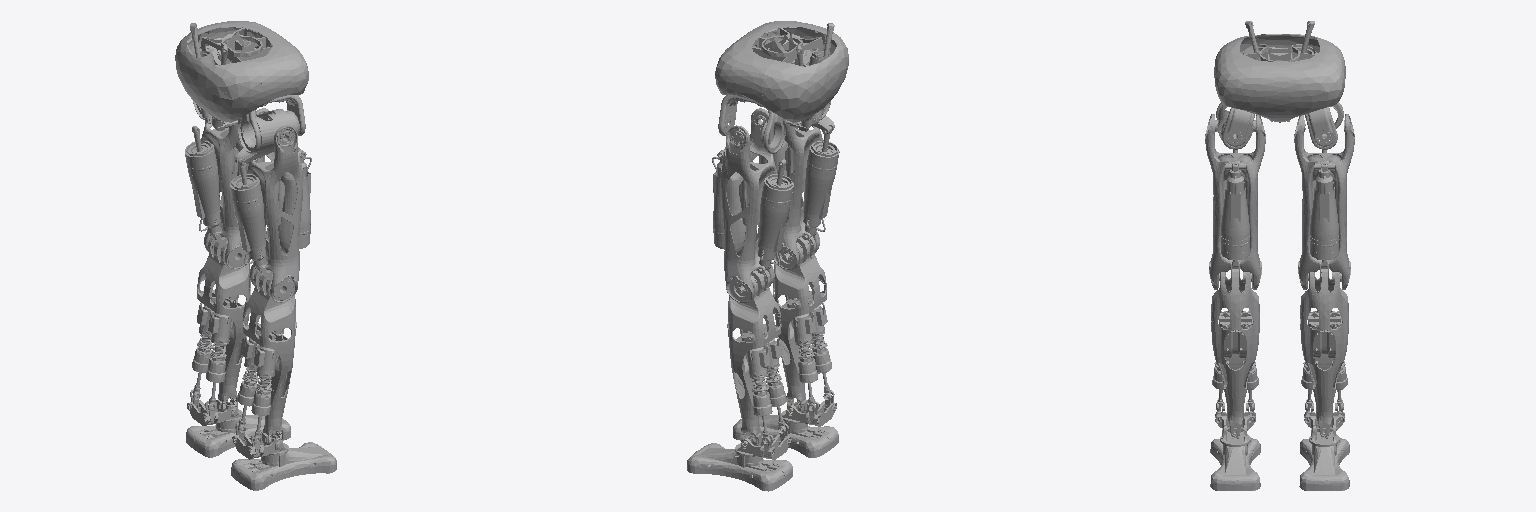
--- Facts derived from the render (not from the file) ---
The picture shows the robot from 3 angles, left to right: view 1: azimuth 30°, elevation 25°; view 2: azimuth 150°, elevation 25°; view 3: azimuth 270°, elevation 25°; orthographic projection.
Model RH5 with 26 links and 25 joints (12 revolute, 13 fixed), rooted at RH5_Root_Link, posed every joint at zero.
Visible links, largest first — view 1: RH5_Root_Link, LRKnee_Link, LLKnee_Link, LRHip3_Link, LRHip2_Link, LRAnkle_FT, LLHip3_Link, LLAnkle_FT, LLHip2_Link, LRHip1_Link; view 2: RH5_Root_Link, LLHip3_Link, LLKnee_Link, LRKnee_Link, LLAnkle_FT, LRHip3_Link, LRHip2_Link, LRAnkle_FT, LLHip2_Link, LLHip1_Link; view 3: RH5_Root_Link, LRHip3_Link, LLHip3_Link, LLKnee_Link, LRKnee_Link, LRAnkle_FT, LLAnkle_FT, LLHip1_Link, LRHip1_Link.
Boxes of the visible links, x1,y1,x2,y2 form: RH5_Root_Link: [175, 21, 308, 130]; LRKnee_Link: [237, 269, 296, 444]; LLKnee_Link: [192, 236, 250, 411]; LRHip3_Link: [247, 108, 311, 302]; LRHip2_Link: [230, 109, 299, 268]; LRAnkle_FT: [231, 433, 336, 490]; LLHip3_Link: [201, 122, 264, 268]; LLAnkle_FT: [186, 400, 290, 457]; LLHip2_Link: [185, 126, 220, 235]; LRHip1_Link: [238, 95, 305, 153]; RH5_Root_Link: [715, 21, 848, 131]; LLHip3_Link: [712, 108, 776, 302]; LLKnee_Link: [727, 270, 786, 445]; LRKnee_Link: [773, 236, 831, 412]; LLAnkle_FT: [687, 433, 792, 491]; LRHip3_Link: [759, 120, 822, 269]; LRHip2_Link: [803, 116, 839, 236]; LRAnkle_FT: [733, 400, 838, 457]; LLHip2_Link: [758, 159, 793, 269]; LLHip1_Link: [718, 95, 785, 153]; RH5_Root_Link: [1214, 21, 1345, 122]; LRHip3_Link: [1205, 114, 1265, 289]; LLHip3_Link: [1294, 114, 1354, 289]; LLKnee_Link: [1300, 261, 1348, 436]; LRKnee_Link: [1211, 261, 1259, 436]; LRAnkle_FT: [1210, 411, 1260, 490]; LLAnkle_FT: [1299, 411, 1349, 490]; LLHip1_Link: [1305, 102, 1343, 149]; LRHip1_Link: [1216, 102, 1254, 149].
Bounding box of the posed robot: 0.324 × 0.3709 × 1.17 m (x, y, z).
42 mesh visuals loaded from 28 distinct referenced files (26 binary STL); not drawn: 3 (reference not matched to a file when rendering).

URDF robot description (RH5):
<robot name="RH5">
  <joint name="FLC_FrontLeft" type="fixed">
    <origin xyz="0.13 -0.04 0.0274" rpy="3.1416 0.0 0.0"/>
    <axis xyz="0.0 0.0 0.0"/>
    <parent link="LLAnkle_FT"/>
    <child link="FLC_FrontLeft_Link"/>
  </joint>
  <link name="FLC_FrontLeft_Link">
    <collision name="FLC_FrontLeft_Collision">
      <origin xyz="0.0 0.0 0.0" rpy="0.0 0.0 0.0"/>
      <geometry>
        <sphere radius="0.017"/>
      </geometry>
    </collision>
  </link>
  <joint name="FLC_FrontRight" type="fixed">
    <origin xyz="0.13 0.04 0.0274" rpy="3.1416 0.0 0.0"/>
    <axis xyz="0.0 0.0 0.0"/>
    <parent link="LLAnkle_FT"/>
    <child link="FLC_FrontRight_Link"/>
  </joint>
  <link name="FLC_FrontRight_Link">
    <collision name="FLC_FrontRight_Collision">
      <origin xyz="0.0 0.0 0.0" rpy="0.0 0.0 0.0"/>
      <geometry>
        <sphere radius="0.017"/>
      </geometry>
    </collision>
  </link>
  <joint name="FLC_RearLeft" type="fixed">
    <origin xyz="-0.07 -0.04 0.0274" rpy="3.1416 0.0 0.0"/>
    <axis xyz="0.0 0.0 0.0"/>
    <parent link="LLAnkle_FT"/>
    <child link="FLC_RearLeft_Link"/>
  </joint>
  <link name="FLC_RearLeft_Link">
    <collision name="FLC_RearLeft_Collision">
      <origin xyz="0.0 0.0 0.0" rpy="0.0 0.0 0.0"/>
      <geometry>
        <sphere radius="0.017"/>
      </geometry>
    </collision>
  </link>
  <joint name="FLC_RearRight" type="fixed">
    <origin xyz="-0.07 0.04 0.0274" rpy="3.1416 0.0 0.0"/>
    <axis xyz="0.0 0.0 0.0"/>
    <parent link="LLAnkle_FT"/>
    <child link="FLC_RearRight_Link"/>
  </joint>
  <link name="FLC_RearRight_Link">
    <collision name="FLC_RearRight_Collision">
      <origin xyz="0.0 0.0 0.0" rpy="0.0 0.0 0.0"/>
      <geometry>
        <sphere radius="0.017"/>
      </geometry>
    </collision>
  </link>
  <link name="FL_SupportCenter"/>
  <joint name="FL_SupportCenter_joint" type="fixed">
    <origin xyz="0.03 0.0 0.0444" rpy="3.1416 0.0 0.0"/>
    <axis xyz="0.0 0.0 0.0"/>
    <parent link="LLAnkle_FT"/>
    <child link="FL_SupportCenter"/>
  </joint>
  <joint name="FRC_FrontLeft" type="fixed">
    <origin xyz="0.13 -0.04 0.0274" rpy="3.1416 0.0 0.0"/>
    <axis xyz="0.0 0.0 0.0"/>
    <parent link="LRAnkle_FT"/>
    <child link="FRC_FrontLeft_Link"/>
  </joint>
  <link name="FRC_FrontLeft_Link">
    <collision name="FRC_FrontLeft_Collision">
      <origin xyz="0.0 0.0 0.0" rpy="0.0 0.0 0.0"/>
      <geometry>
        <sphere radius="0.017"/>
      </geometry>
    </collision>
  </link>
  <joint name="FRC_FrontRight" type="fixed">
    <origin xyz="0.13 0.04 0.0274" rpy="3.1416 0.0 0.0"/>
    <axis xyz="0.0 0.0 0.0"/>
    <parent link="LRAnkle_FT"/>
    <child link="FRC_FrontRight_Link"/>
  </joint>
  <link name="FRC_FrontRight_Link">
    <collision name="FRC_FrontRight_Collision">
      <origin xyz="0.0 0.0 0.0" rpy="0.0 0.0 0.0"/>
      <geometry>
        <sphere radius="0.017"/>
      </geometry>
    </collision>
  </link>
  <joint name="FRC_RearLeft" type="fixed">
    <origin xyz="-0.07 -0.04 0.0274" rpy="3.1416 0.0 0.0"/>
    <axis xyz="0.0 0.0 0.0"/>
    <parent link="LRAnkle_FT"/>
    <child link="FRC_RearLeft_Link"/>
  </joint>
  <link name="FRC_RearLeft_Link">
    <collision name="FRC_RearLeft_Collision">
      <origin xyz="0.0 0.0 0.0" rpy="0.0 0.0 0.0"/>
      <geometry>
        <sphere radius="0.017"/>
      </geometry>
    </collision>
  </link>
  <joint name="FRC_RearRight" type="fixed">
    <origin xyz="-0.07 0.04 0.0274" rpy="3.1416 0.0 0.0"/>
    <axis xyz="0.0 0.0 0.0"/>
    <parent link="LRAnkle_FT"/>
    <child link="FRC_RearRight_Link"/>
  </joint>
  <link name="FRC_RearRight_Link">
    <collision name="FRC_RearRight_Collision">
      <origin xyz="0.0 0.0 0.0" rpy="0.0 0.0 0.0"/>
      <geometry>
        <sphere radius="0.017"/>
      </geometry>
    </collision>
  </link>
  <link name="FR_SupportCenter"/>
  <joint name="FR_SupportCenter_joint" type="fixed">
    <origin xyz="0.03 0.0 0.0444" rpy="3.1416 0.0 0.0"/>
    <axis xyz="0.0 0.0 0.0"/>
    <parent link="LRAnkle_FT"/>
    <child link="FR_SupportCenter"/>
  </joint>
  <joint name="IMU" type="fixed">
    <origin xyz="0 0.0 0" rpy="0.0 0 0"/>
    <axis xyz="0.0 0.0 0.0"/>
    <parent link="RH5_Root_Link"/>
    <child link="IMU_Link"/>
  </joint>
  <link name="IMU_Link"/>
  <joint name="LLAnklePitch" type="revolute">
    <origin xyz="0.0 0.0 0.0" rpy="0.0 0.0 0.0"/>
    <axis xyz="0.0 1.0 0.0"/>
    <parent link="LLAnkleRoll_Link"/>
    <child link="LLAnklePitch_Link"/>
    <limit effort="200.0" lower="-0.8988445648" upper="0.7853981634" velocity="6.0"/>
  </joint>
  <link name="LLAnklePitch_Link">
    <inertial>
      <origin xyz="2.8493e-18 -1.3878e-16 0.0" rpy="0.0 0.0 0.0"/>
      <mass value="0.05002825763253648"/>
      <inertia ixx="1.1393245912e-05" ixy="1.7670484276950664e-28" ixz="-1.2474451909533485e-12" iyy="1.0892263576532345e-05" iyz="0.0" izz="2.9520429504676554e-06"/>
    </inertial>
    <visual name="LLAnklePitch_Link_visual">
      <origin xyz="0.0 0.0 0.0" rpy="0.0 0.0 0.0"/>
      <geometry>
        <mesh filename="../meshes/AnklePitch_Link.STL"/>
      </geometry>
      <material name="">
        <color rgba="0.79216 0.81961 0.93333 1.0"/>
      </material>
    </visual>
    <visual name="LLAnkle_E21_Link_visual">
      <origin xyz="-0.07 -0.04 0.0" rpy="-0.05066 -0.0 0.0"/>
      <geometry>
        <mesh filename="../meshes/Ankle_E21_Link.STL"/>
      </geometry>
      <material name="">
        <color rgba="0.69804 0.69804 0.69804 1.0"/>
      </material>
    </visual>
    <visual name="LLAnkle_E11_Link_visual">
      <origin xyz="-0.07 0.04 0.0" rpy="0.05066 -0.0 0.0"/>
      <geometry>
        <mesh filename="../meshes/Ankle_E11_Link.STL"/>
      </geometry>
      <material name="">
        <color rgba="0.69804 0.69804 0.69804 1.0"/>
      </material>
    </visual>
  </link>
  <joint name="LLAnkleRoll" type="revolute">
    <origin xyz="0.42 0.0 0.0015" rpy="1.5708 5.551115123125783e-17 -1.5708"/>
    <axis xyz="1.0 0.0 0.0"/>
    <parent link="LLKnee_Link"/>
    <child link="LLAnkleRoll_Link"/>
    <limit effort="200.0" lower="-0.9948376736" upper="0.9948376736" velocity="6.0"/>
  </joint>
  <link name="LLAnkleRoll_Link">
    <inertial>
      <origin xyz="-4.1608e-08 7.2923e-08 -5.2997e-09" rpy="0.0 0.0 0.0"/>
      <mass value="0.02493"/>
      <inertia ixx="2.9269e-06" ixy="-7.8377e-12" ixz="-1.0382e-12" iyy="1.1591e-06" iyz="1.5876e-12" izz="3.5758e-06"/>
    </inertial>
    <visual name="LLAnkleRoll_Link_visual">
      <origin xyz="0.0 0.0 0.0" rpy="0.0 0.0 0.0"/>
      <geometry>
        <mesh filename="../meshes/AnkleRoll_Link.STL"/>
      </geometry>
      <material name="">
        <color rgba="0.64706 0.61961 0.58824 1.0"/>
      </material>
    </visual>
  </link>
  <link name="LLAnkle_FT">
    <inertial>
      <origin xyz="0.016102 4.5932e-05 0.0078533" rpy="0.0 0.0 0.0"/>
      <mass value="1.2348"/>
      <inertia ixx="0.0018722" ixy="1.7891e-07" ixz="-0.00077672" iyy="0.0072567" iyz="3.8393e-06" izz="0.007267"/>
    </inertial>
    <visual name="LLAnkle_FT_visual">
      <origin xyz="0.0 0.0 0.0" rpy="0.0 0.0 0.0"/>
      <geometry>
        <mesh filename="../meshes/FL_FT_Link.STL"/>
      </geometry>
      <material name="">
        <color rgba="0.69804 0.69804 0.69804 1.0"/>
      </material>
    </visual>
  </link>
  <joint name="LLAnkle_FT_joint" type="fixed">
    <origin xyz="0.0 0.0 -0.058972" rpy="-3.1416 0.0 -1.2151e-16"/>
    <axis xyz="0.0 0.0 0.0"/>
    <parent link="LLAnklePitch_Link"/>
    <child link="LLAnkle_FT"/>
  </joint>
  <joint name="LLHip1" type="revolute">
    <origin xyz="0.0735 0.11044 0.014269" rpy="8.0247e-16 0.2618 -1.5708"/>
    <axis xyz="0.0 0.0 1.0"/>
    <parent link="RH5_Root_Link"/>
    <child link="LLHip1_Link"/>
    <limit effort="135.0" lower="-0.7854" upper="0.7854" velocity="1.8326"/>
  </joint>
  <link name="LLHip1_Link">
    <inertial>
      <origin xyz="-4.7812e-08 -0.0016168 0.04962" rpy="0.0 0.0 0.0"/>
      <mass value="0.5"/>
      <inertia ixx="0.0020247" ixy="7.2405e-09" ixz="3.8164e-09" iyy="0.00095765" iyz="-0.00012913" izz="0.0015078"/>
    </inertial>
    <visual name="LLHip1_Link_visual">
      <origin xyz="0.0 0.0 0.0" rpy="0.0 0.0 0.0"/>
      <geometry>
        <mesh filename="../meshes/LLHip1_Link.STL"/>
      </geometry>
      <material name="">
        <color rgba="0.69804 0.69804 0.69804 1.0"/>
      </material>
    </visual>
  </link>
  <joint name="LLHip2" type="revolute">
    <origin xyz="0.0 0.0 0.0" rpy="9.8608e-32 2.7756e-17 -4.9304e-32"/>
    <axis xyz="0.0 1.0 0.0"/>
    <parent link="LLHip1_Link"/>
    <child link="LLHip2_Link"/>
    <limit effort="135.0" lower="-0.4363" upper="0.8727" velocity="1.8326"/>
  </joint>
  <link name="LLHip2_Link">
    <inertial>
      <origin xyz="0.0013954 0.0024309 -0.0053241" rpy="0.0 0.0 0.0"/>
      <mass value="2.3580361324518035"/>
      <inertia ixx="0.008083434004413779" ixy="2.6244834705305358e-05" ixz="0.0015310237705679207" iyy="0.007915769158281745" iyz="-9.344933737144451e-05" izz="0.0027252481373044738"/>
    </inertial>
    <visual name="LLHip2_Link_visual">
      <origin xyz="0.0 0.0 0.0" rpy="0.0 0.0 0.0"/>
      <geometry>
        <mesh filename="../meshes/LLHip2_Link.STL"/>
      </geometry>
      <material name="">
        <color rgba="0.69804 0.69804 0.69804 1.0"/>
      </material>
    </visual>
    <visual name="LLHip3_B11_Link_visual">
      <origin xyz="0.018117 -0.09 -0.067615" rpy="-2.5686 1.2576999999999998 0.5958800000000001"/>
      <geometry>
        <mesh filename="../meshes/Hip3_B11_Link.STL"/>
      </geometry>
      <material name="">
        <color rgba="0.69804 0.69804 0.69804 1.0"/>
      </material>
    </visual>
    <visual name="LLHip3_Act1_Link_visual">
      <origin xyz="0.09393098308289657 -0.038590125898753366 -0.3505567339559511" rpy="0.5729999999999998 1.2576999999999994 0.5958800000000001"/>
      <geometry>
        <mesh filename="../meshes/LLHip3_Act1_Link.STL"/>
      </geometry>
      <material name="">
        <color rgba="0.69804 0.69804 0.69804 1.0"/>
      </material>
    </visual>
  </link>
  <joint name="LLHip3" type="revolute">
    <origin xyz="0.0 0.0 0.0" rpy="9.8608e-32 2.7756e-17 -4.9304e-32"/>
    <axis xyz="-0.96593 0.0 -0.25882"/>
    <parent link="LLHip2_Link"/>
    <child link="LLHip3_Link"/>
    <limit effort="378.0" lower="-1.16" upper="0.28" velocity="2.321"/>
  </joint>
  <link name="LLHip3_Link">
    <inertial>
      <origin xyz="0.051263 0.0072511 -0.19232" rpy="0.0 0.0 0.0"/>
      <mass value="2.4377337930824305"/>
      <inertia ixx="0.0267577627146784" ixy="3.2673817728971014e-05" ixz="0.0032268691746643605" iyy="0.029394554214711634" iyz="-0.0001498356765101371" izz="0.005399934370609966"/>
    </inertial>
    <visual name="LLHip3_Link_visual">
      <origin xyz="0.0 0.0 0.0" rpy="0.0 0.0 0.0"/>
      <geometry>
        <mesh filename="../meshes/Hip3_Link.STL"/>
      </geometry>
      <material name="">
        <color rgba="0.69804 0.69804 0.69804 1.0"/>
      </material>
    </visual>
    <collision name="LLHip3_Link_collision">
      <origin xyz="0.05410637838284813 0.005196313895957175 -0.20155622029885475" rpy="2.8786935033165375 0.09046667825579376 1.5464941877752887"/>
      <geometry>
        <box size="0.12200059773407665 0.15002443346404168 0.474515434996993"/>
      </geometry>
    </collision>
    <visual name="LLKnee_B11_Link_visual">
      <origin xyz="0.020175 0.070737 -0.075294" rpy="-0.15080999999999992 1.3059000000000005 -0.15616999999999992"/>
      <geometry>
        <mesh filename="../meshes/Knee_B11_Link.STL"/>
      </geometry>
      <material name="">
        <color rgba="0.69804 0.69804 0.69804 1.0"/>
      </material>
    </visual>
    <visual name="LLKnee_Act1_Link_visual">
      <origin xyz="0.09088512935033356 0.059603540016275505 -0.3391673631423413" rpy="-0.15080999999999994 1.3059000000000005 -0.15616999999999995"/>
      <geometry>
        <mesh filename="../meshes/Knee_Act1_Link.STL"/>
      </geometry>
      <material name="">
        <color rgba="0.69804 0.69804 0.69804 1.0"/>
      </material>
    </visual>
  </link>
  <joint name="LLKnee" type="revolute">
    <origin xyz="0.10788 -0.0005 -0.39684" rpy="3.1416 1.309 -2.9949e-15"/>
    <axis xyz="0.0 0.0 1.0"/>
    <parent link="LLHip3_Link"/>
    <child link="LLKnee_Link"/>
    <limit effort="325.0" lower="-0.026" upper="1.43" velocity="2.321"/>
  </joint>
  <link name="LLKnee_Link">
    <inertial>
      <origin xyz="0.11911 -0.001888 0.00058411" rpy="0.0 0.0 0.0"/>
      <mass value="2.3690392835599923"/>
      <inertia ixx="0.007186070874806159" ixy="-5.408981012900345e-05" ixz="-0.00010460818246783018" iyy="0.015334532906158908" iyz="-0.0009184931600015315" izz="0.019875099619034924"/>
    </inertial>
    <visual name="LLKnee_Link_visual">
      <origin xyz="0.0 0.0 0.0" rpy="0.0 0.0 0.0"/>
      <geometry>
        <mesh filename="../meshes/Knee_Link.STL"/>
      </geometry>
      <material name="">
        <color rgba="0.69804 0.69804 0.69804 1.0"/>
      </material>
    </visual>
    <collision name="LLKnee_Link_collision">
      <origin xyz="0.18142876774072647 -0.003944786265492439 0.0014998912811279297" rpy="0.0 -0.0 0.0"/>
      <geometry>
        <box size="0.5021360367536545 0.12789290770888329 0.11989995092153549"/>
      </geometry>
    </collision>
    <visual name="LLAnkle_B11_Link_visual">
      <origin xyz="0.12872999008627622 0.022301069894637288 0.02649893010538089" rpy="1.5201995950723244 -1.9755524692725744e-06 1.7452956535986952"/>
      <geometry>
        <mesh filename="../meshes/Ankle_B11_Link.STL"/>
      </geometry>
      <material name="">
        <color rgba="0.69804 0.69804 0.69804 1.0"/>
      </material>
    </visual>
    <visual name="LLAnkle_B12_Link_visual">
      <origin xyz="0.12872999008627622 0.022301069894637288 0.02649893010538089" rpy="1.6213921335695103 0.0003060746390916892 -1.4023021588708646"/>
      <geometry>
        <mesh filename="../meshes/Ankle_B12_Link.STL"/>
      </geometry>
      <material name="">
        <color rgba="0.69804 0.69804 0.69804 1.0"/>
      </material>
    </visual>
    <visual name="LLAnkle_Act1_Link_visual">
      <origin xyz="0.39059846357402106 0.06684327487261481 0.03995015565913803" rpy="-3.135543074958524 1.5202022485750566 0.17453865585220907"/>
      <geometry>
        <mesh filename="../meshes/Ankle_Act1_Link.STL"/>
      </geometry>
      <material name="">
        <color rgba="0.69804 0.69804 0.69804 1.0"/>
      </material>
    </visual>
    <visual name="LLAnkle_B21_Link_visual">
      <origin xyz="0.1287301737465314 0.022301069893962668 -0.023501069894281797" rpy="1.6214049022519106 -1.9755524692725744e-06 1.7452956535986952"/>
      <geometry>
        <mesh filename="../meshes/Ankle_B21_Link.STL"/>
      </geometry>
      <material name="">
        <color rgba="0.69804 0.69804 0.69804 1.0"/>
      </material>
    </visual>
    <visual name="LLAnkle_B22_Link_visual">
      <origin xyz="0.1287301737465314 0.022301069893962668 -0.023501069894281797" rpy="1.520188652771982 -0.00030219472845357864 -1.4023021552616228"/>
      <geometry>
        <mesh filename="../meshes/Ankle_B22_Link.STL"/>
      </geometry>
      <material name="">
        <color rgba="0.69804 0.69804 0.69804 1.0"/>
      </material>
    </visual>
    <visual name="LLAnkle_Act2_Link_visual">
      <origin xyz="0.39059848109430023 0.06684329955582428 -0.03695544775297088" rpy="1.520188652771982 -0.00030219472845357864 -1.4023021552616228"/>
      <geometry>
        <mesh filename="../meshes/Ankle_Act2_Link.STL"/>
      </geometry>
      <material name="">
        <color rgba="0.69804 0.69804 0.69804 1.0"/>
      </material>
    </visual>
  </link>
  <joint name="LRAnklePitch" type="revolute">
    <origin xyz="0.0 0.0 0.0" rpy="0.0 0.0 0.0"/>
    <axis xyz="0.0 1.0 0.0"/>
    <parent link="LRAnkleRoll_Link"/>
    <child link="LRAnklePitch_Link"/>
    <limit effort="200.0" lower="-0.8988445648" upper="0.7853981634" velocity="6.0"/>
  </joint>
  <link name="LRAnklePitch_Link">
    <inertial>
      <origin xyz="2.8493e-18 -1.3878e-16 0.0" rpy="0.0 0.0 0.0"/>
      <mass value="0.05002825763253648"/>
      <inertia ixx="1.1393245912e-05" ixy="1.7670484276950664e-28" ixz="-1.2474451909533485e-12" iyy="1.0892263576532345e-05" iyz="0.0" izz="2.9520429504676554e-06"/>
    </inertial>
    <visual name="LRAnklePitch_Link_visual">
      <origin xyz="0.0 0.0 0.0" rpy="0.0 0.0 0.0"/>
      <geometry>
        <mesh filename="../meshes/AnklePitch_Link.STL"/>
      </geometry>
      <material name="">
        <color rgba="0.79216 0.81961 0.93333 1.0"/>
      </material>
    </visual>
    <visual name="LRAnkle_E21_Link_visual">
      <origin xyz="-0.07 -0.04 0.0" rpy="-0.05066 -0.0 0.0"/>
      <geometry>
        <mesh filename="../meshes/Ankle_E21_Link.STL"/>
      </geometry>
      <material name="">
        <color rgba="0.69804 0.69804 0.69804 1.0"/>
      </material>
    </visual>
    <visual name="LRAnkle_E11_Link_visual">
      <origin xyz="-0.07 0.04 0.0" rpy="0.05066 -0.0 0.0"/>
      <geometry>
        <mesh filename="../meshes/Ankle_E11_Link.STL"/>
      </geometry>
      <material name="">
        <color rgba="0.69804 0.69804 0.69804 1.0"/>
      </material>
    </visual>
  </link>
  <joint name="LRAnkleRoll" type="revolute">
    <origin xyz="0.42 0.0 0.0015" rpy="1.5708 5.551115123125783e-17 -1.5708"/>
    <axis xyz="1.0 0.0 0.0"/>
    <parent link="LRKnee_Link"/>
    <child link="LRAnkleRoll_Link"/>
    <limit effort="200.0" lower="-0.9948376736" upper="0.9948376736" velocity="6.0"/>
  </joint>
  <link name="LRAnkleRoll_Link">
    <inertial>
      <origin xyz="-4.1608e-08 7.2923e-08 -5.2997e-09" rpy="0.0 0.0 0.0"/>
      <mass value="0.02493"/>
      <inertia ixx="2.9269e-06" ixy="-7.8377e-12" ixz="-1.0382e-12" iyy="1.1591e-06" iyz="1.5876e-12" izz="3.5758e-06"/>
    </inertial>
    <visual name="LRAnkleRoll_Link_visual">
      <origin xyz="0.0 0.0 0.0" rpy="0.0 0.0 0.0"/>
      <geometry>
        <mesh filename="../meshes/AnkleRoll_Link.STL"/>
      </geometry>
      <material name="">
        <color rgba="0.64706 0.61961 0.58824 1.0"/>
      </material>
    </visual>
  </link>
  <link name="LRAnkle_FT">
    <inertial>
      <origin xyz="0.016102 4.5932e-05 0.0078533" rpy="0.0 0.0 0.0"/>
      <mass value="1.2348"/>
      <inertia ixx="0.0018722" ixy="1.7891e-07" ixz="-0.00077672" iyy="0.0072567" iyz="3.8393e-06" izz="0.007267"/>
    </inertial>
    <visual name="LRAnkle_FT_visual">
      <origin xyz="0.0 0.0 0.0" rpy="0.0 0.0 0.0"/>
      <geometry>
        <mesh filename="../meshes/FL_FT_Link.STL"/>
      </geometry>
      <material name="">
        <color rgba="0.69804 0.69804 0.69804 1.0"/>
      </material>
    </visual>
  </link>
  <joint name="LRAnkle_FT_joint" type="fixed">
    <origin xyz="0.0 0.0 -0.058972" rpy="-3.1416 0.0 -1.2151e-16"/>
    <axis xyz="0.0 0.0 0.0"/>
    <parent link="LRAnklePitch_Link"/>
    <child link="LRAnkle_FT"/>
  </joint>
  <joint name="LRHip1" type="revolute">
    <origin xyz="0.0735 -0.11044 0.014269" rpy="3.4781e-17 -0.2618 -1.5708"/>
    <axis xyz="0.0 0.0 1.0"/>
    <parent link="RH5_Root_Link"/>
    <child link="LRHip1_Link"/>
    <limit effort="135.0" lower="-0.7854" upper="0.7854" velocity="1.8326"/>
  </joint>
  <link name="LRHip1_Link">
    <inertial>
      <origin xyz="-4.5821e-08 -0.0016166 0.04962" rpy="0.0 0.0 0.0"/>
      <mass value="0.5"/>
      <inertia ixx="0.0020247" ixy="8.3227e-09" ixz="3.6838e-09" iyy="0.00095763" iyz="-0.00012913" izz="0.0015078"/>
    </inertial>
    <visual name="LRHip1_Link_visual">
      <origin xyz="0.0 0.0 0.0" rpy="0.0 0.0 0.0"/>
      <geometry>
        <mesh filename="../meshes/LRHip1_Link.STL"/>
      </geometry>
      <material name="">
        <color rgba="0.69804 0.69804 0.69804 1.0"/>
      </material>
    </visual>
  </link>
  <joint name="LRHip2" type="revolute">
    <origin xyz="0.0 0.0 0.0" rpy="-4.0161e-17 0.5236 -2.0081e-17"/>
    <axis xyz="0.0 1.0 0.0"/>
    <parent link="LRHip1_Link"/>
    <child link="LRHip2_Link"/>
    <limit effort="135.0" lower="-0.8727" upper="0.4363" velocity="1.8326"/>
  </joint>
  <link name="LRHip2_Link">
    <inertial>
      <origin xyz="0.0013954 0.0024309 -0.0053241" rpy="0.0 0.0 0.0"/>
      <mass value="2.3580361324518035"/>
      <inertia ixx="0.008083434004413779" ixy="2.6244834705305358e-05" ixz="0.0015310237705679207" iyy="0.007915769158281745" iyz="-9.344933737144451e-05" izz="0.0027252481373044738"/>
    </inertial>
    <visual name="LRHip2_Link_visual">
      <origin xyz="0.0 0.0 0.0" rpy="0.0 0.0 0.0"/>
      <geometry>
        <mesh filename="../meshes/LRHip2_Link.STL"/>
      </geometry>
      <material name="">
        <color rgba="0.69804 0.69804 0.69804 1.0"/>
      </material>
    </visual>
    <visual name="LRHip3_B11_Link_visual">
      <origin xyz="0.018117 -0.09 -0.067615" rpy="-2.5686 1.2576999999999998 0.5958800000000001"/>
      <geometry>
        <mesh filename="../meshes/Hip3_B11_Link.STL"/>
      </geometry>
      <material name="">
        <color rgba="0.69804 0.69804 0.69804 1.0"/>
      </material>
    </visual>
    <visual name="LRHip3_Act1_Link_visual">
      <origin xyz="0.09393098308289657 -0.038590125898753366 -0.3505567339559511" rpy="0.5729999999999998 1.2576999999999994 0.5958800000000001"/>
      <geometry>
        <mesh filename="../meshes/LLHip3_Act1_Link.STL"/>
      </geometry>
      <material name="">
        <color rgba="0.69804 0.69804 0.69804 1.0"/>
      </material>
    </visual>
  </link>
  <joint name="LRHip3" type="revolute">
    <origin xyz="0.0 0.0 0.0" rpy="9.8608e-32 2.7756e-17 -4.9304e-32"/>
    <axis xyz="-0.96593 0.0 -0.25882"/>
    <parent link="LRHip2_Link"/>
    <child link="LRHip3_Link"/>
    <limit effort="378.0" lower="-1.16" upper="0.28" velocity="2.321"/>
  </joint>
  <link name="LRHip3_Link">
    <inertial>
      <origin xyz="0.051263 0.0072511 -0.19232" rpy="0.0 0.0 0.0"/>
      <mass value="2.4377337930824305"/>
      <inertia ixx="0.0267577627146784" ixy="3.2673817728971014e-05" ixz="0.0032268691746643605" iyy="0.029394554214711634" iyz="-0.0001498356765101371" izz="0.005399934370609966"/>
    </inertial>
    <visual name="LRHip3_Link_visual">
      <origin xyz="0.0 0.0 0.0" rpy="0.0 0.0 0.0"/>
      <geometry>
        <mesh filename="../meshes/Hip3_Link.STL"/>
      </geometry>
      <material name="">
        <color rgba="0.69804 0.69804 0.69804 1.0"/>
      </material>
    </visual>
    <collision name="LRHip3_Link_collision">
      <origin xyz="0.05410637838284813 0.005196313895957175 -0.20155622029885475" rpy="2.8786935033165375 0.09046667825579376 1.5464941877752887"/>
      <geometry>
        <box size="0.12200059773407665 0.15002443346404168 0.474515434996993"/>
      </geometry>
    </collision>
    <visual name="LRKnee_B11_Link_visual">
      <origin xyz="0.020175 0.070737 -0.075294" rpy="-0.15080999999999992 1.3059000000000005 -0.15616999999999992"/>
      <geometry>
        <mesh filename="../meshes/Knee_B11_Link.STL"/>
      </geometry>
      <material name="">
        <color rgba="0.69804 0.69804 0.69804 1.0"/>
      </material>
    </visual>
    <visual name="LRKnee_Act1_Link_visual">
      <origin xyz="0.09088512935033356 0.059603540016275505 -0.3391673631423413" rpy="-0.15080999999999994 1.3059000000000005 -0.15616999999999995"/>
      <geometry>
        <mesh filename="../meshes/Knee_Act1_Link.STL"/>
      </geometry>
      <material name="">
        <color rgba="0.69804 0.69804 0.69804 1.0"/>
      </material>
    </visual>
  </link>
  <joint name="LRKnee" type="revolute">
    <origin xyz="0.10788 -0.0005 -0.39684" rpy="3.1416 1.309 -2.9949e-15"/>
    <axis xyz="0.0 0.0 1.0"/>
    <parent link="LRHip3_Link"/>
    <child link="LRKnee_Link"/>
    <limit effort="325.0" lower="-0.026" upper="1.43" velocity="2.321"/>
  </joint>
  <link name="LRKnee_Link">
    <inertial>
      <origin xyz="0.11911 -0.001888 0.00058411" rpy="0.0 0.0 0.0"/>
      <mass value="2.369041606483567"/>
      <inertia ixx="0.00718607087481035" ixy="-5.4089810208980605e-05" ixz="-0.00010460818216963791" iyy="0.015334532907684004" iyz="-0.0009184931643303047" izz="0.01987509961750564"/>
    </inertial>
    <visual name="LRKnee_Link_visual">
      <origin xyz="0.0 0.0 0.0" rpy="0.0 0.0 0.0"/>
      <geometry>
        <mesh filename="../meshes/Knee_Link.STL"/>
      </geometry>
      <material name="">
        <color rgba="0.69804 0.69804 0.69804 1.0"/>
      </material>
    </visual>
    <collision name="LRKnee_Link_collision">
      <origin xyz="0.18142876774072647 -0.003944786265492439 0.0014998912811279297" rpy="0.0 -0.0 0.0"/>
      <geometry>
        <box size="0.5021360367536545 0.12789290770888329 0.11989995092153549"/>
      </geometry>
    </collision>
    <visual name="LRAnkle_B11_Link_visual">
      <origin xyz="0.12872999008627622 0.022301069894637288 0.02649893010538089" rpy="1.5201995950723244 -1.9755524692725744e-06 1.7452956535986952"/>
      <geometry>
        <mesh filename="../meshes/Ankle_B11_Link.STL"/>
      </geometry>
      <material name="">
        <color rgba="0.69804 0.69804 0.69804 1.0"/>
      </material>
    </visual>
    <visual name="LRAnkle_B12_Link_visual">
      <origin xyz="0.12872999008627622 0.022301069894637288 0.02649893010538089" rpy="1.6213921335695103 0.0003060746390916892 -1.4023021588708646"/>
      <geometry>
        <mesh filename="../meshes/Ankle_B12_Link.STL"/>
      </geometry>
      <material name="">
        <color rgba="0.69804 0.69804 0.69804 1.0"/>
      </material>
    </visual>
    <visual name="LRAnkle_Act1_Link_visual">
      <origin xyz="0.39059846357402106 0.06684327487261481 0.03995015565913803" rpy="-3.135543074958524 1.5202022485750566 0.17453865585220907"/>
      <geometry>
        <mesh filename="../meshes/Ankle_Act1_Link.STL"/>
      </geometry>
      <material name="">
        <color rgba="0.69804 0.69804 0.69804 1.0"/>
      </material>
    </visual>
    <visual name="LRAnkle_B21_Link_visual">
      <origin xyz="0.1287301737465314 0.022301069893962668 -0.023501069894281797" rpy="1.5201877513328248 1.8413153890626716e-06 -1.3962996501833926"/>
      <geometry>
        <mesh filename="../meshes/Ankle_B21_Link.STL"/>
      </geometry>
      <material name="">
        <color rgba="0.69804 0.69804 0.69804 1.0"/>
      </material>
    </visual>
    <visual name="LRAnkle_B22_Link_visual">
      <origin xyz="0.1287301737465314 0.022301069893962668 -0.023501069894281797" rpy="1.520188652771982 -0.00030219472845357864 -1.4023021552616228"/>
      <geometry>
        <mesh filename="../meshes/Ankle_B22_Link.STL"/>
      </geometry>
      <material name="">
        <color rgba="0.69804 0.69804 0.69804 1.0"/>
      </material>
    </visual>
    <visual name="LRAnkle_Act2_Link_visual">
      <origin xyz="0.39059848109430023 0.06684329955582428 -0.03695544775297088" rpy="1.520188652771982 -0.00030219472845357864 -1.4023021552616228"/>
      <geometry>
        <mesh filename="../meshes/Ankle_Act2_Link.STL"/>
      </geometry>
      <material name="">
        <color rgba="0.69804 0.69804 0.69804 1.0"/>
      </material>
    </visual>
  </link>
  <link name="RH5_Root_Link">
    <inertial>
      <origin xyz="0.057726 2.1253e-05 0.13284" rpy="0.0 0.0 0.0"/>
      <mass value="4.80289768335972"/>
      <inertia ixx="0.03304656577513494" ixy="-3.6100616894227637e-06" ixz="-0.0020457081602203537" iyy="0.021956704" iyz="-5.465636509300982e-06" izz="0.03752923602486506"/>
    </inertial>
    <visual name="RH5_Root_Link_visual">
      <origin xyz="0.0 0.0 0.0" rpy="0.0 0.0 0.0"/>
      <geometry>
        <mesh filename="../meshes/RH5_Root_Link.STL"/>
      </geometry>
      <material name="">
        <color rgba="0.69804 0.69804 0.69804 1.0"/>
      </material>
    </visual>
    <collision name="RH5_Root_Link_collision">
      <origin xyz="0.04128999263048172 0.0 0.1133179023017874" rpy="0.0 -0.0 0.0"/>
      <geometry>
        <box size="0.2746039479970932 0.3261495530605316 0.22715241627884097"/>
      </geometry>
    </collision>
    <visual name="Body_B21_Link_visual">
      <origin xyz="-0.032000000000097936 0.019999999999651706 0.007000000000004142" rpy="-0.23917265358958625 -1.0127441837298582e-24 9.793190564044702e-12"/>
      <geometry>
        <mesh filename="../meshes/Body_B21_Link.STL"/>
      </geometry>
      <material name="">
        <color rgba="0.69804 0.69804 0.69804 1.0"/>
      </material>
    </visual>
    <visual name="Body_B22_Link_visual">
      <origin xyz="-0.032000000000097936 0.019999999999651706 0.007000000000004142" rpy="-0.23941646446807321 -0.044699407566615786 0.010906984228219958"/>
      <geometry>
        <mesh filename="../meshes/Body_B22_Link.STL"/>
      </geometry>
      <material name="">
        <color rgba="0.69804 0.69804 0.69804 1.0"/>
      </material>
    </visual>
    <visual name="Body_Act2_Link_visual">
      <origin xyz="-0.04304218393473293 0.0768145018662063 0.23999911792024206" rpy="-0.23941646446807358 -0.044699407566615786 0.010906984228220049"/>
      <geometry>
        <mesh filename="../meshes/Body_Act2_Link.STL"/>
      </geometry>
      <material name="">
        <color rgba="0.69804 0.69804 0.69804 1.0"/>
      </material>
    </visual>
    <visual name="Body_B11_Link_visual">
      <origin xyz="-0.031999999999902065 -0.020000000000348295 0.006999999999995871" rpy="0.23917265358999984 -1.0127441837298582e-24 9.793190564044702e-12"/>
      <geometry>
        <mesh filename="../meshes/Body_B11_Link.STL"/>
      </geometry>
      <material name="">
        <color rgba="0.69804 0.69804 0.69804 1.0"/>
      </material>
    </visual>
    <visual name="Body_B12_Link_visual">
      <origin xyz="-0.031999999999902065 -0.020000000000348295 0.006999999999995871" rpy="0.2394164644684859 -0.044699407566611275 -0.01090698420865236"/>
      <geometry>
        <mesh filename="../meshes/Body_B12_Link.STL"/>
      </geometry>
      <material name="">
        <color rgba="0.69804 0.69804 0.69804 1.0"/>
      </material>
    </visual>
    <visual name="Body_Act1_Link_visual">
      <origin xyz="-0.043042183933424266 -0.07681450186721515 0.2399991179202104" rpy="0.2394164644684859 -0.044699407566611275 -0.01090698420865236"/>
      <geometry>
        <mesh filename="../meshes/Body_Act1_Link.STL"/>
      </geometry>
      <material name="">
        <color rgba="0.69804 0.69804 0.69804 1.0"/>
      </material>
    </visual>
  </link>
</robot>
